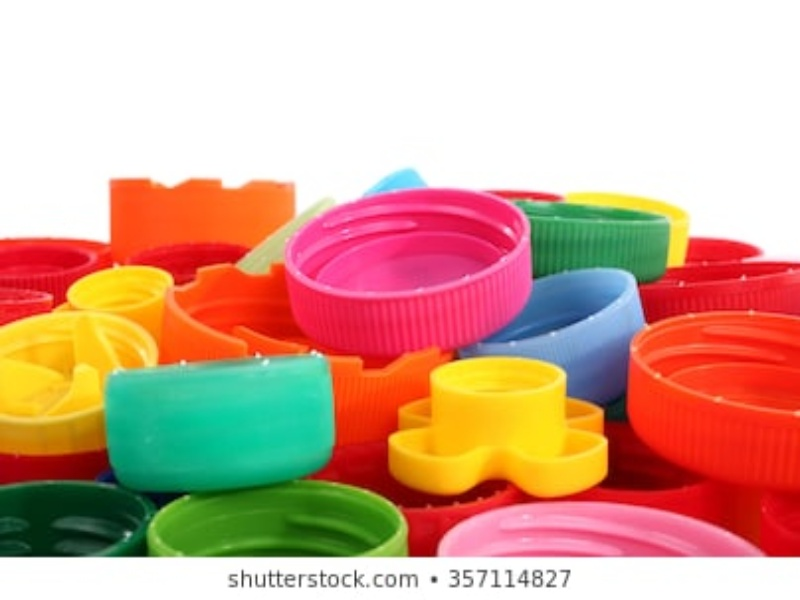bottle-cap: (267, 179, 544, 355), (93, 347, 339, 497), (621, 291, 800, 483)
